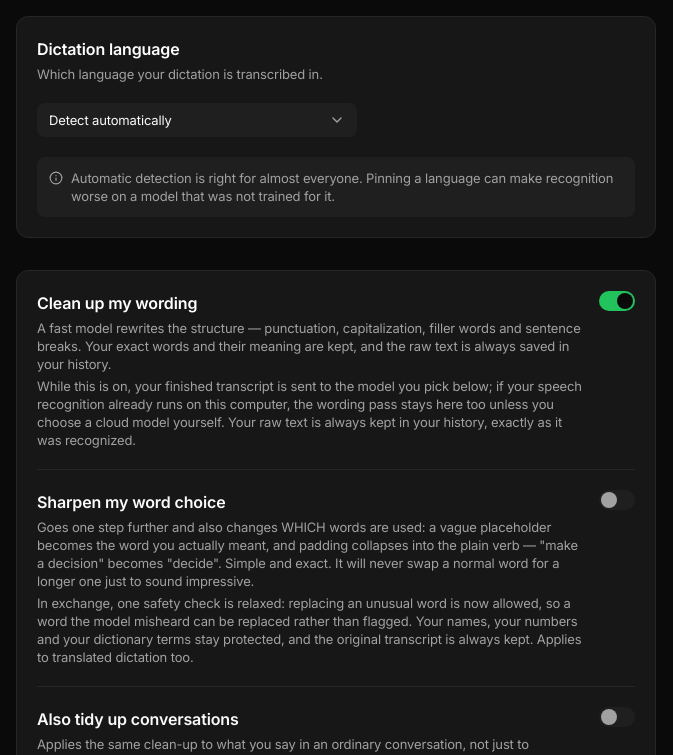
LanguageTab › saves the pick through the dictation settings endpoint
Click the dropdown with test id "dictation-language" at (110, 120), box [37,103,357,137]
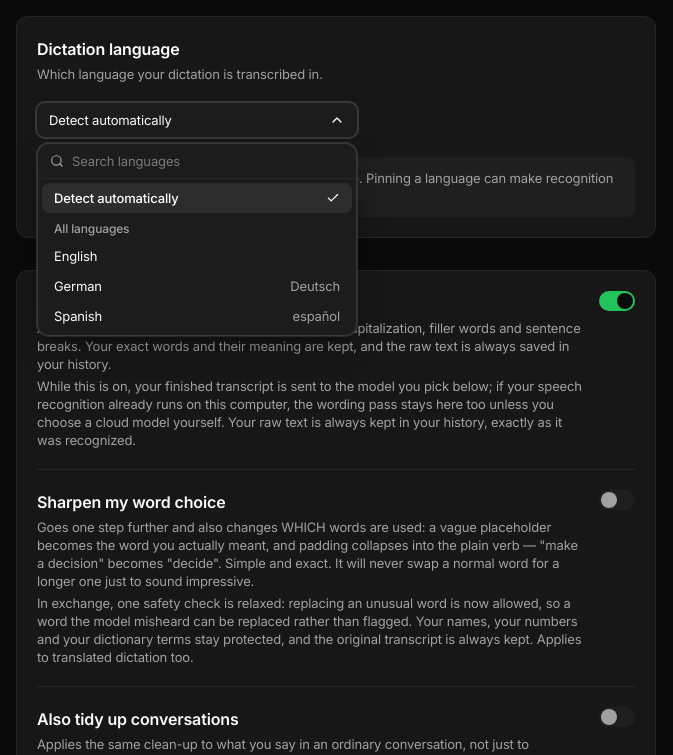
Click the option "Spanish español" at (78, 316), box [54,308,340,324]
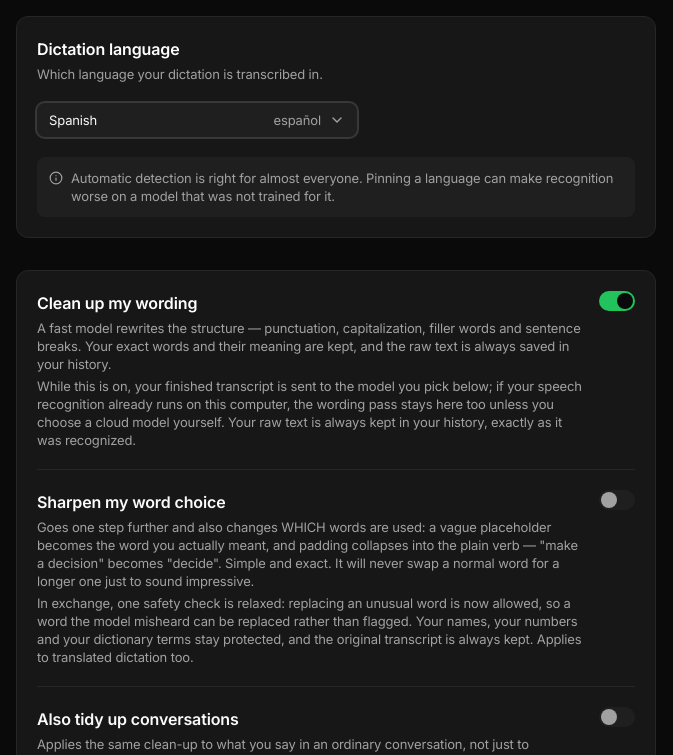
Expected: the element with test id "dictation-language-panel" is gone
